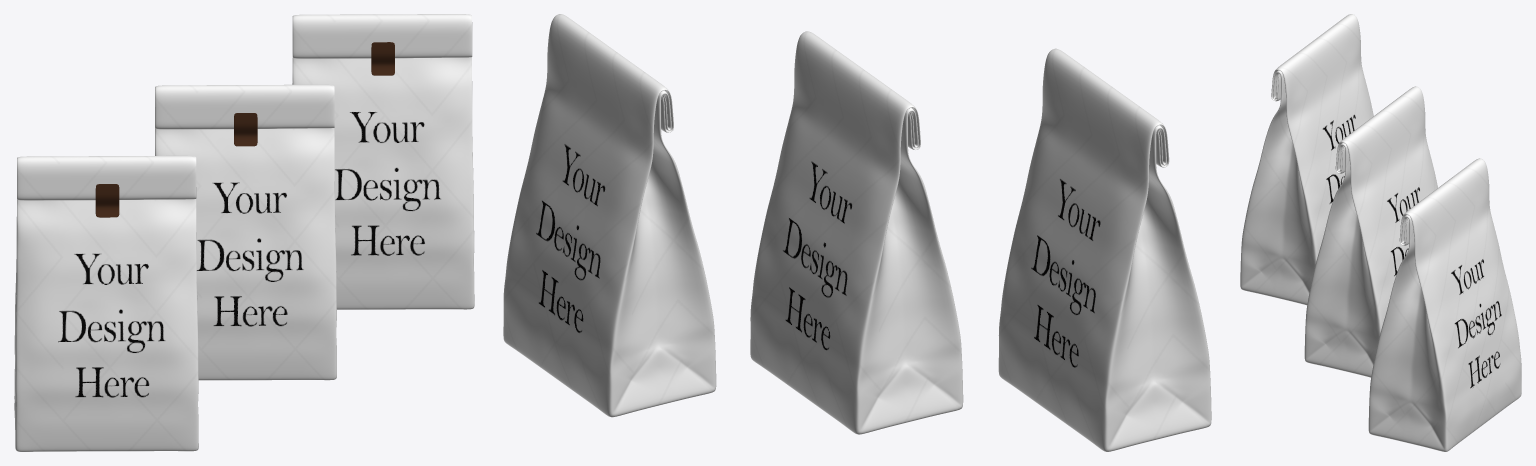
Rendered from Kraft paper A-6.glb.
The picture shows the model from 3 angles, left to right: view 1: azimuth 30°, elevation 25°; view 2: azimuth 150°, elevation 25°; view 3: azimuth 270°, elevation 25°; orthographic projection. The views are drawn at different scales.
Parts seen in each view (by area): view 1: _gltfNode_0.002, _gltfNode_0.001, _gltfNode_0, _gltfNode_1.002, _gltfNode_1, _gltfNode_1.001; view 2: _gltfNode_0.002, _gltfNode_0, _gltfNode_0.001; view 3: _gltfNode_0, _gltfNode_0.002, _gltfNode_0.001.
Boxes of the visible parts, <box> form: _gltfNode_0.002: <box>14,155,198,451</box>; _gltfNode_0.001: <box>155,84,336,380</box>; _gltfNode_0: <box>292,14,474,309</box>; _gltfNode_1.002: <box>95,184,119,217</box>; _gltfNode_1: <box>371,42,394,75</box>; _gltfNode_1.001: <box>234,113,257,146</box>; _gltfNode_0.002: <box>998,48,1211,451</box>; _gltfNode_0: <box>503,14,716,417</box>; _gltfNode_0.001: <box>750,31,963,434</box>; _gltfNode_0: <box>1368,158,1521,451</box>; _gltfNode_0.002: <box>1240,14,1373,305</box>; _gltfNode_0.001: <box>1304,86,1437,377</box>.
Size of the model in its own units: 43.31 by 21.2 by 23.48.
2 materials, 1 textured.
